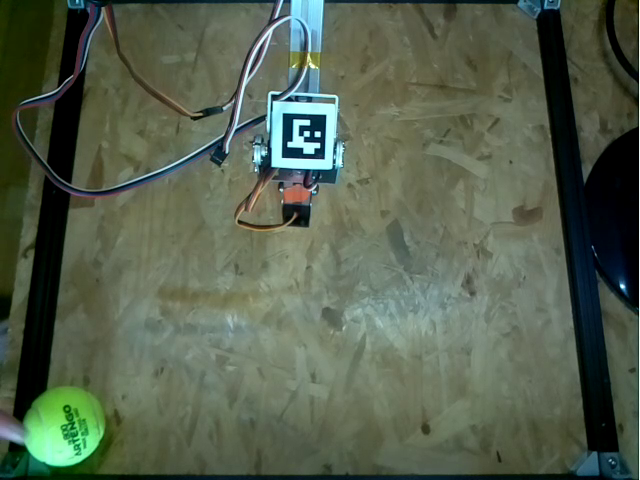tennis_ball: (23, 383, 103, 468)
